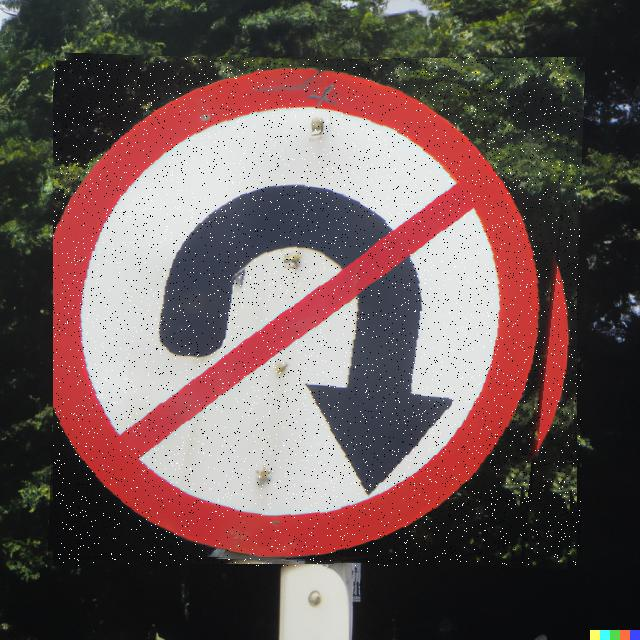no u turn: (53, 57, 581, 566)
